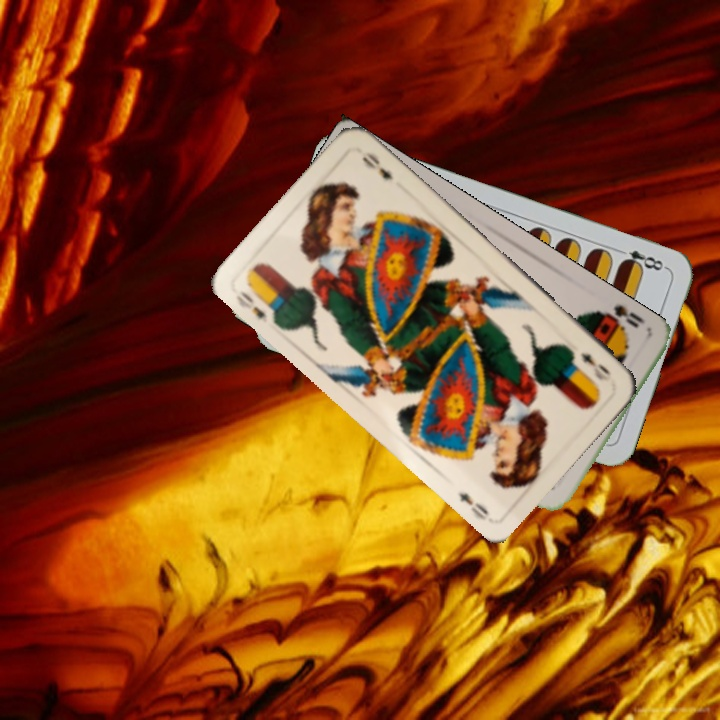E8: (613, 244, 670, 274)
EO: (232, 286, 271, 326), (576, 348, 614, 384)
SO: (591, 301, 648, 333)
